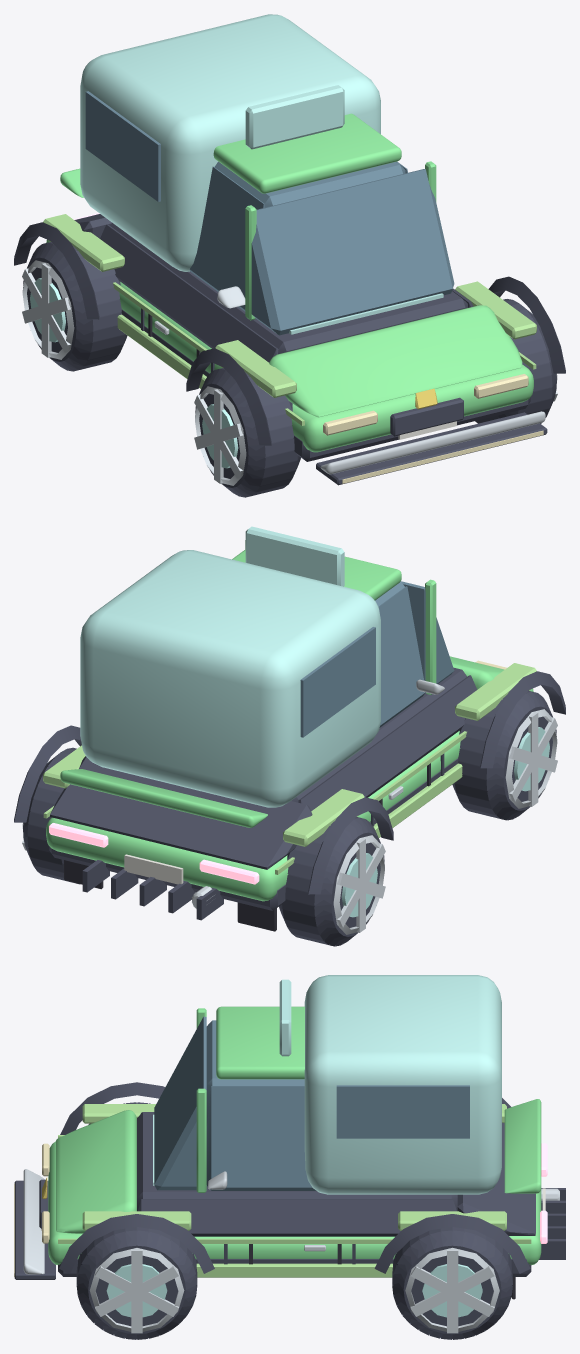
Rendered from canal_runner.fbx.
3 renders of one model, top to bottom at view 1: azimuth 30°, elevation 25°; view 2: azimuth 150°, elevation 25°; view 3: azimuth 270°, elevation 25°, orthographic. The views are drawn at different scales.
Parts seen in each view (by area): view 1: Glass, Accent3, Body, Trim, Accent, Metal, Wheel_FR, Wheel_RR, Light3, Accent2, Light, Wheel_FL (+1 smaller); view 2: Accent3, Trim, Body, Glass, Accent, Metal, Wheel_RR, Wheel_FR, Light3, Wheel_RL, Light2, Trim2 (+2 smaller); view 3: Accent3, Trim, Glass, Body, Metal, Accent, Wheel_FL, Wheel_RL, Accent2, Metal2, Light3, Light (+1 smaller).
Part boxes in pixels (bbox=[...]): Glass: bbox=[85, 91, 454, 335]; Accent3: bbox=[80, 14, 443, 334]; Body: bbox=[46, 113, 533, 452]; Trim: bbox=[14, 214, 565, 485]; Accent: bbox=[43, 214, 536, 425]; Metal: bbox=[22, 260, 557, 485]; Wheel_FR: bbox=[195, 368, 300, 497]; Wheel_RR: bbox=[23, 242, 127, 371]; Light3: bbox=[245, 85, 344, 149]; Accent2: bbox=[217, 286, 545, 474]; Light: bbox=[323, 374, 543, 483]; Wheel_FL: bbox=[475, 299, 556, 423]; Accent3: bbox=[80, 550, 380, 807]; Trim: bbox=[14, 667, 565, 920]; Body: bbox=[46, 540, 533, 901]; Glass: bbox=[300, 581, 454, 737]; Accent: bbox=[43, 663, 536, 874]; Metal: bbox=[22, 709, 557, 934]; Wheel_RR: bbox=[279, 817, 384, 946]; Wheel_FR: bbox=[452, 691, 556, 820]; Light3: bbox=[245, 526, 344, 586]; Wheel_RL: bbox=[23, 747, 79, 884]; Light2: bbox=[49, 823, 259, 884]; Trim2: bbox=[64, 763, 430, 931]; Accent3: bbox=[153, 975, 501, 1194]; Trim: bbox=[14, 1082, 565, 1279]; Glass: bbox=[154, 1016, 469, 1190]; Body: bbox=[48, 1006, 541, 1265]; Metal: bbox=[89, 1188, 559, 1333]; Accent: bbox=[58, 1104, 531, 1277]; Wheel_FL: bbox=[76, 1227, 197, 1339]; Wheel_RL: bbox=[392, 1227, 512, 1339]; Accent2: bbox=[23, 1169, 227, 1274]; Metal2: bbox=[106, 1264, 482, 1317]; Light3: bbox=[279, 979, 291, 1056]; Light: bbox=[14, 1143, 49, 1276].
Bounding box in the file's own units: 3.21 × 2.9 × 5.26.
